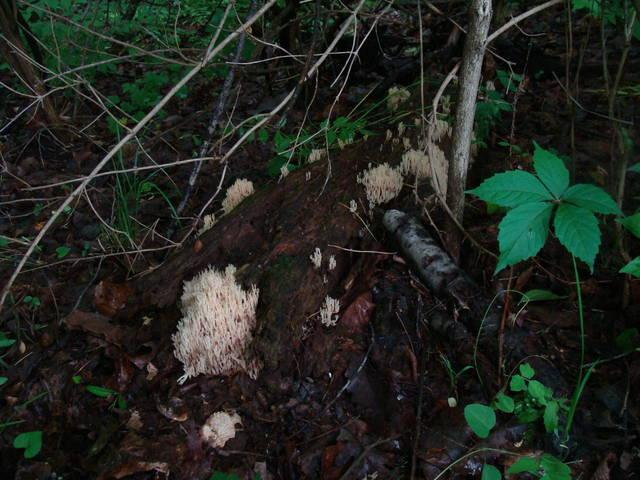edible_mushroom: (169, 262, 262, 383), (360, 161, 409, 204), (402, 141, 448, 180), (220, 173, 255, 209)
